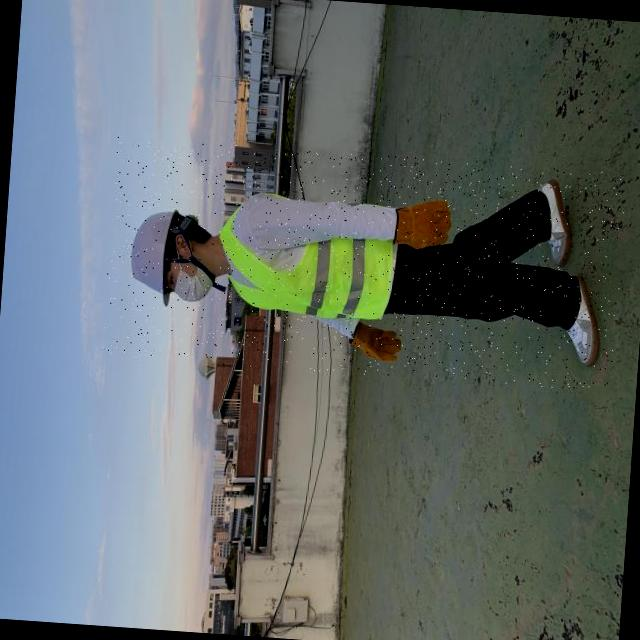boots: (545, 271, 613, 379), (526, 165, 584, 272)
gloves: (326, 297, 436, 367), (380, 188, 472, 254)
helmet: (122, 200, 184, 314)
vest: (216, 190, 406, 325)
